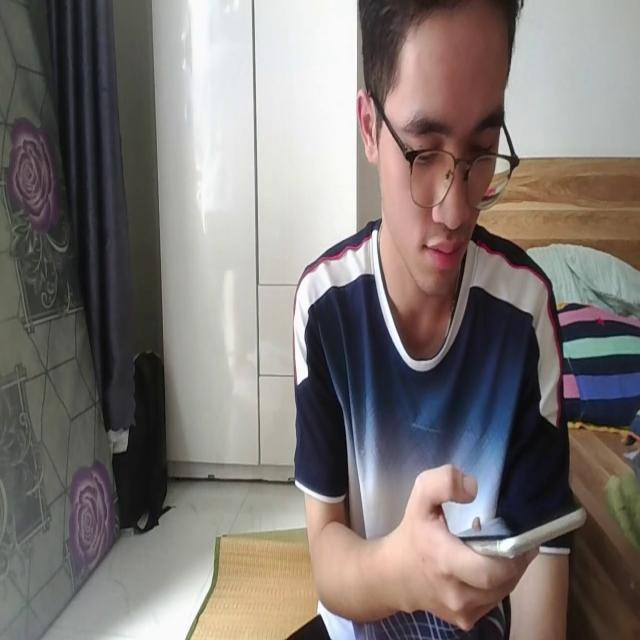phone: (448, 498, 586, 566)
student: (290, 0, 574, 640)
